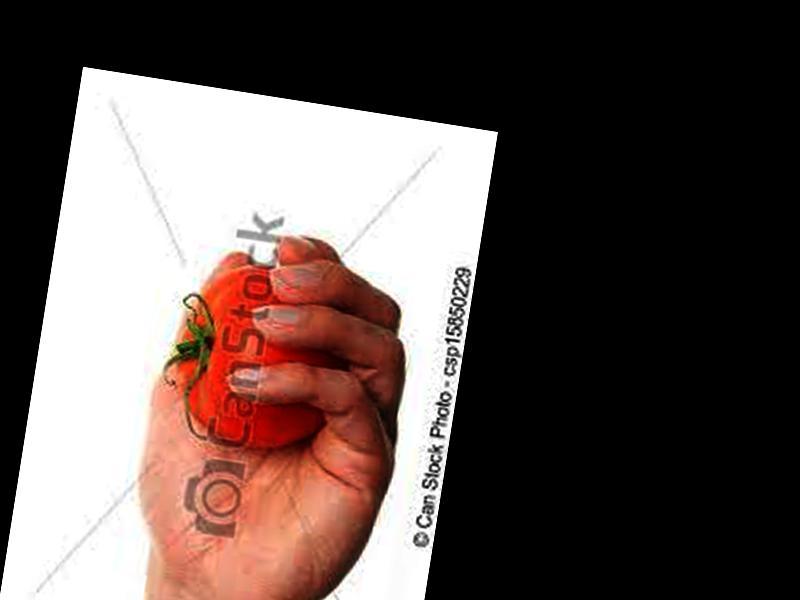Tomato: (167, 256, 355, 455)
